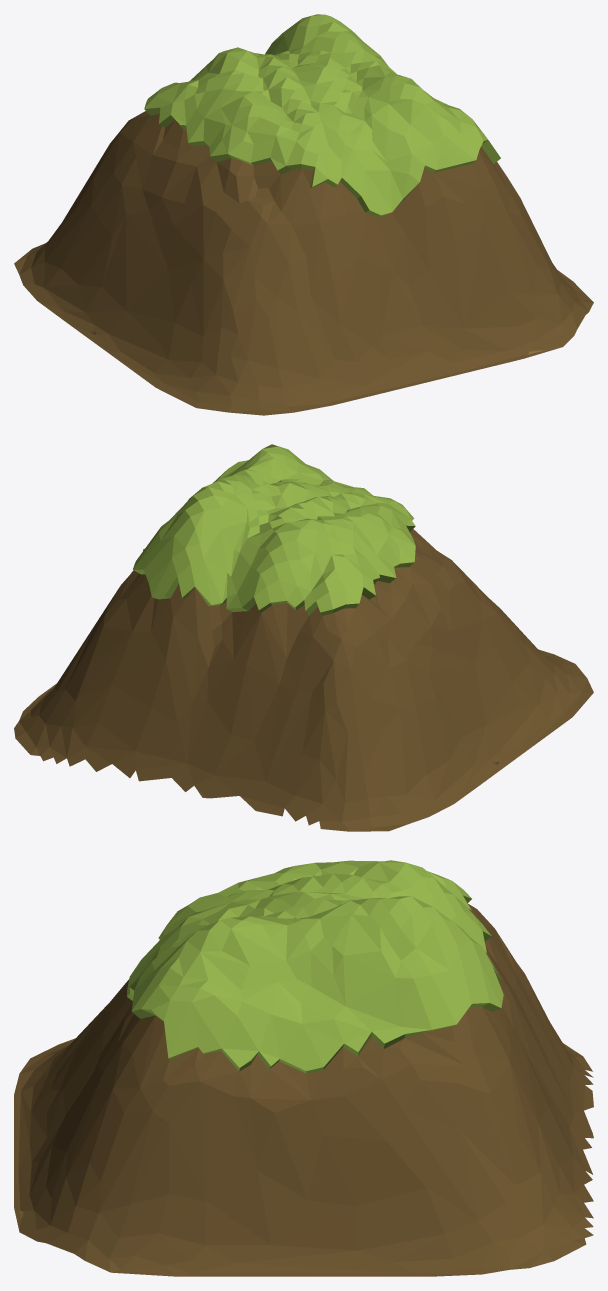
The model's file is mountain2 1.fbx.
3 views of the same model, one above another, from view 1: azimuth 30°, elevation 25°; view 2: azimuth 150°, elevation 25°; view 3: azimuth 270°, elevation 25° (orthographic). The views are drawn at different scales.
Visible parts, largest first — view 1: mountain3_LOD0; view 2: mountain3_LOD0; view 3: mountain3_LOD0.
Boxes of the visible parts, bbox=[...] form: mountain3_LOD0: bbox=[14, 14, 593, 415]; mountain3_LOD0: bbox=[14, 444, 593, 831]; mountain3_LOD0: bbox=[14, 860, 593, 1276].
Size of what is drawn, in the model's own units: 211 by 113 by 207.
